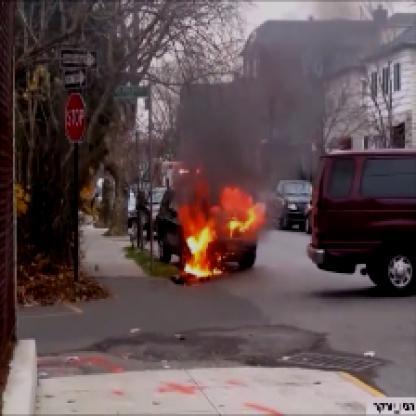Fire: (167, 177, 268, 284)
